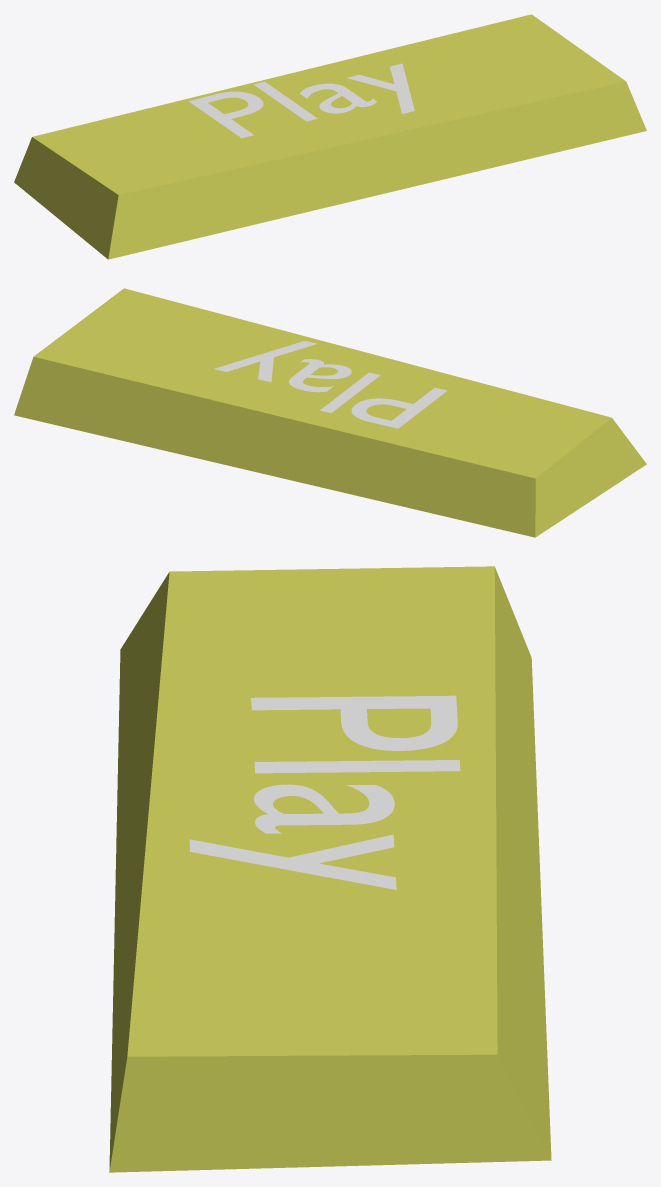
File: Button.fbx
3 renders of one model, top to bottom at view 1: azimuth 30°, elevation 25°; view 2: azimuth 150°, elevation 25°; view 3: azimuth 270°, elevation 25°, orthographic. The views are drawn at different scales.
Parts seen in each view (by area): view 1: Cube, gh; view 2: Cube, gh; view 3: Cube, gh.
Part boxes in pixels (x1,y1,x2,y2): Cube: [14, 14, 646, 259]; gh: [188, 63, 414, 138]; Cube: [14, 288, 646, 537]; gh: [214, 341, 446, 428]; Cube: [109, 566, 551, 1172]; gh: [189, 695, 460, 889].
Bounding box in the file's own units: 411 × 41.8 × 147.
